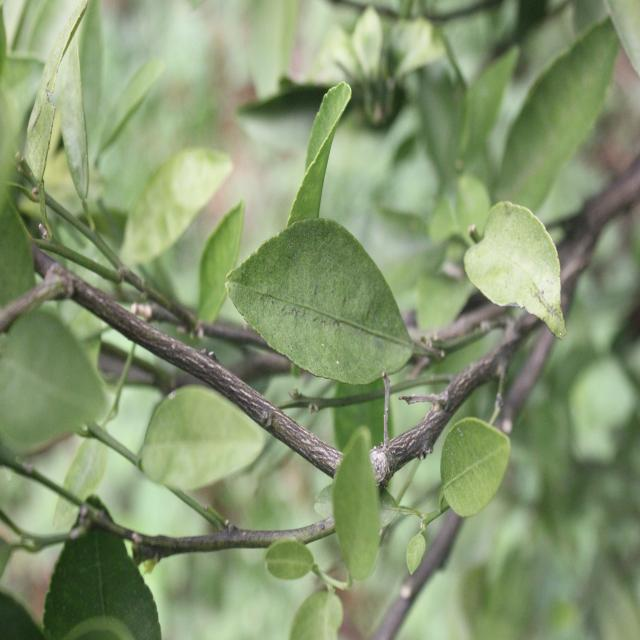melanose: (230, 228, 404, 373)
